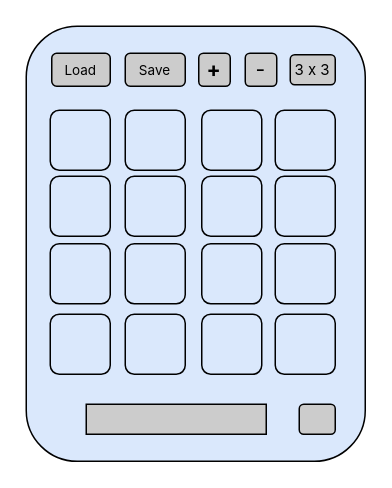
This 392x488 diagram has some shape labels left out. The centre of each missing label's shape, as x and y in pixels:
(no file): the point at 175,418
L / D: the point at 316,418
